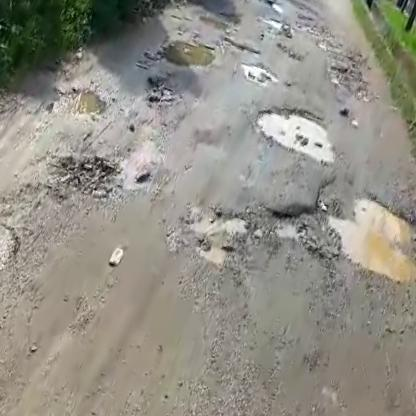pothole: (296, 171, 416, 290), (246, 94, 347, 168), (40, 136, 123, 211), (175, 197, 252, 272), (45, 73, 112, 125), (151, 30, 217, 80), (0, 198, 26, 311), (135, 70, 185, 112), (238, 55, 286, 88)
